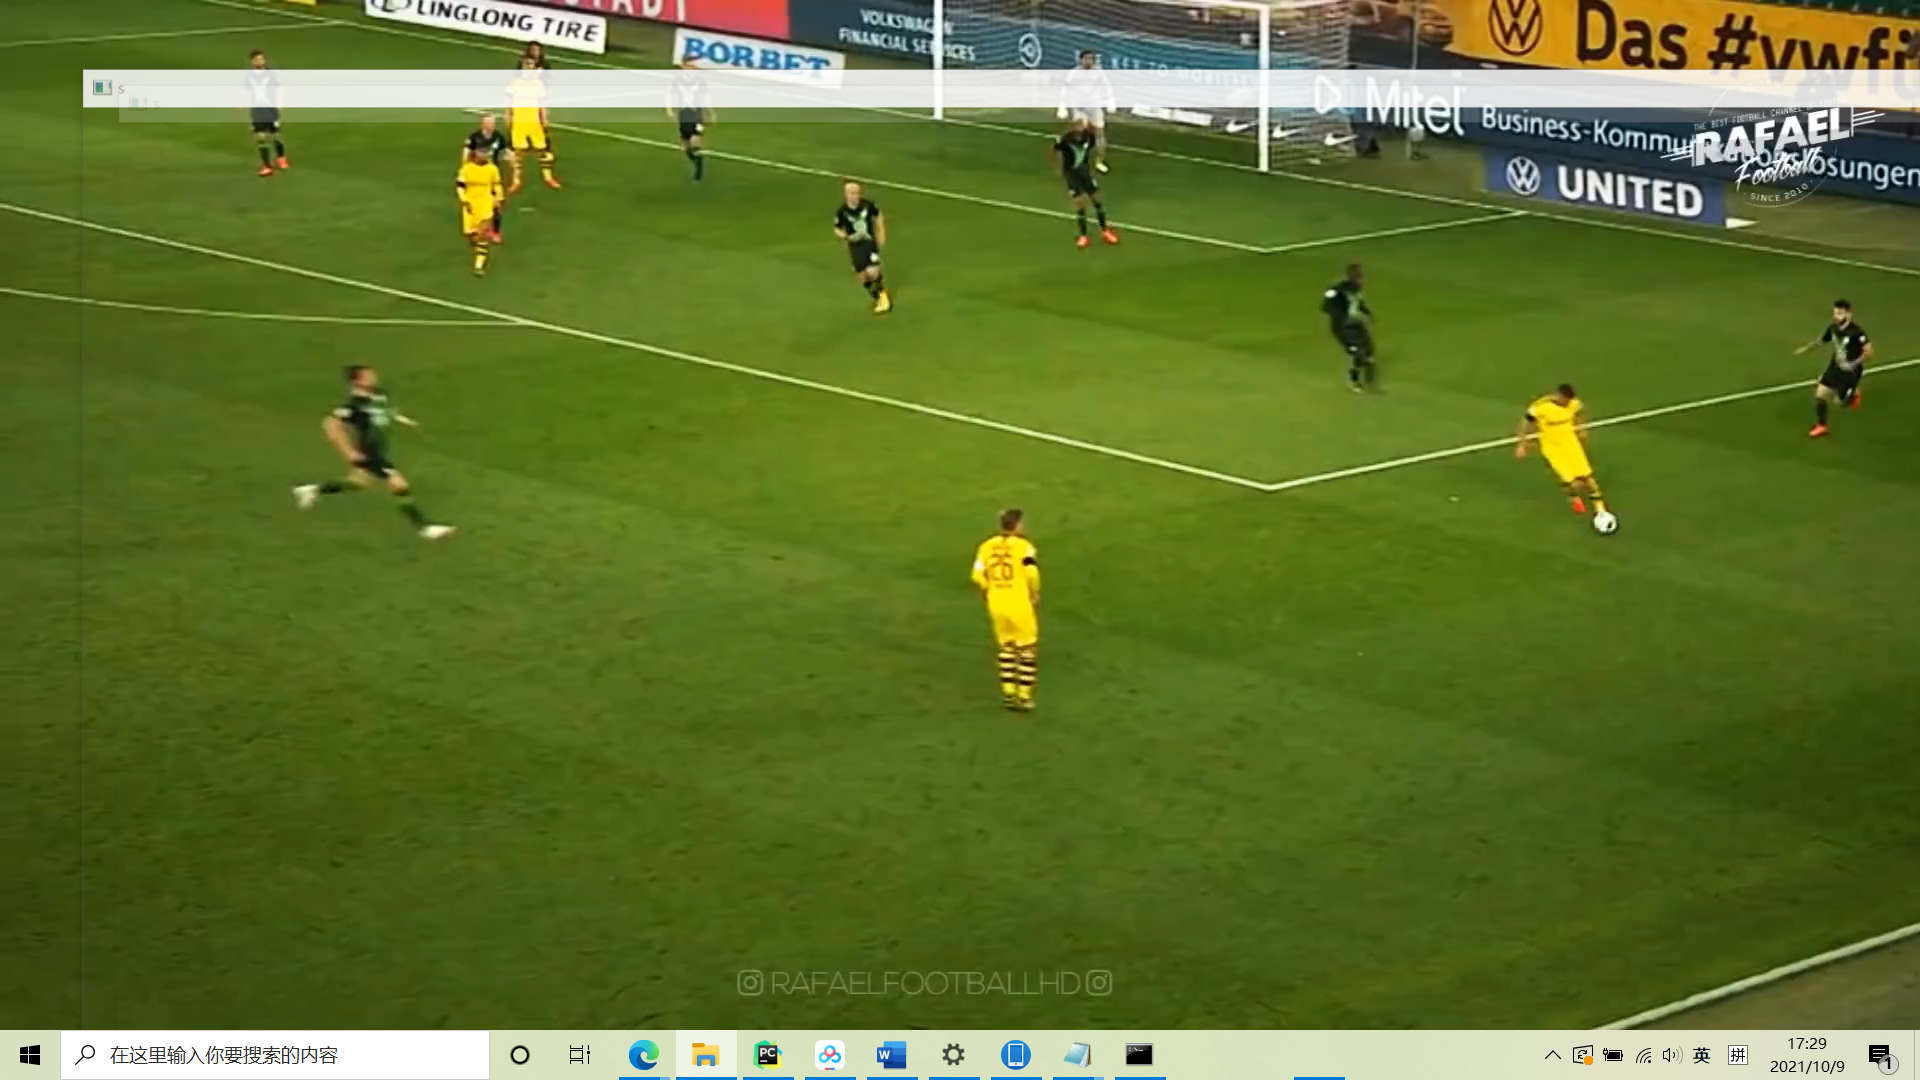ft: (1592, 509, 1619, 538)
